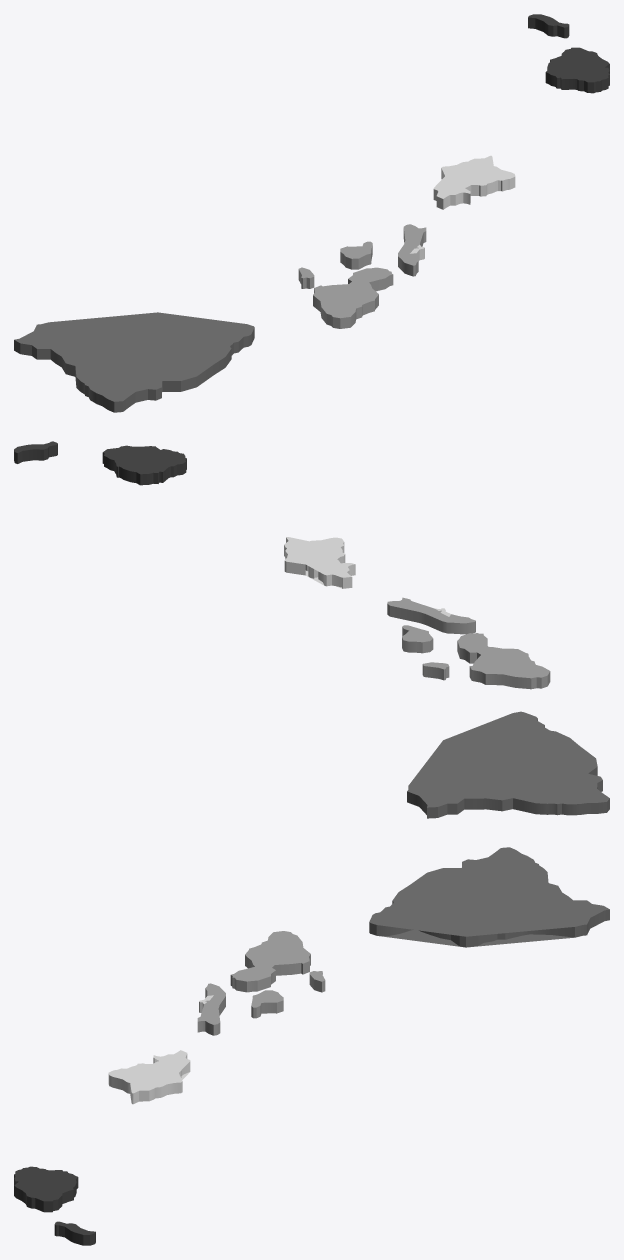
Rendered from Hawaii_Counties_3D.fbx.
The picture shows the model from 3 angles, top to bottom: view 1: azimuth 90°, elevation 25°; view 2: azimuth 150°, elevation 25°; view 3: azimuth 270°, elevation 25°; orthographic projection.
Visible parts, largest first — view 1: HI_Hawaii_County_3D, HI_Maui_County_3D, HI_Kauai_County_3D, HI_Honolulu_County_3D; view 2: HI_Hawaii_County_3D, HI_Maui_County_3D, HI_Kauai_County_3D, HI_Honolulu_County_3D; view 3: HI_Hawaii_County_3D, HI_Maui_County_3D, HI_Kauai_County_3D, HI_Honolulu_County_3D.
Part boxes in pixels (bbox=[...]): HI_Hawaii_County_3D: bbox=[14, 312, 254, 412]; HI_Maui_County_3D: bbox=[298, 224, 426, 328]; HI_Kauai_County_3D: bbox=[528, 14, 609, 93]; HI_Honolulu_County_3D: bbox=[433, 155, 515, 209]; HI_Hawaii_County_3D: bbox=[407, 711, 609, 818]; HI_Maui_County_3D: bbox=[387, 597, 550, 689]; HI_Kauai_County_3D: bbox=[14, 441, 186, 485]; HI_Honolulu_County_3D: bbox=[284, 537, 355, 588]; HI_Hawaii_County_3D: bbox=[369, 847, 609, 947]; HI_Maui_County_3D: bbox=[197, 931, 325, 1035]; HI_Kauai_County_3D: bbox=[14, 1166, 95, 1245]; HI_Honolulu_County_3D: bbox=[108, 1050, 190, 1104].
Size of the model in its own units: 766 by 10 by 498.
